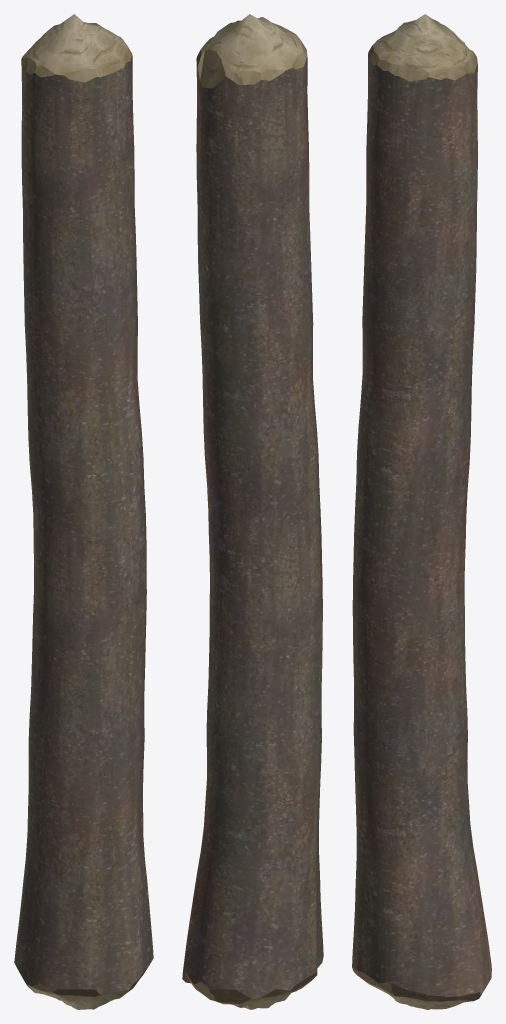
3 views of the same model, side by side, from view 1: azimuth 90°, elevation 25°; view 2: azimuth 150°, elevation 25°; view 3: azimuth 330°, elevation 25° (orthographic).
Visible parts, largest first — view 1: SM_BM_Ash_Tree_03_half_bottom_LOD0; view 2: SM_BM_Ash_Tree_03_half_bottom_LOD0; view 3: SM_BM_Ash_Tree_03_half_bottom_LOD0.
Part boxes in pixels (bbox=[...]): SM_BM_Ash_Tree_03_half_bottom_LOD0: bbox=[14, 14, 153, 1009]; SM_BM_Ash_Tree_03_half_bottom_LOD0: bbox=[182, 14, 323, 1009]; SM_BM_Ash_Tree_03_half_bottom_LOD0: bbox=[352, 14, 491, 1009].
Bounding box in the file's own units: 0.5918 × 4.56 × 0.5785.
1 material, 1 textured.
